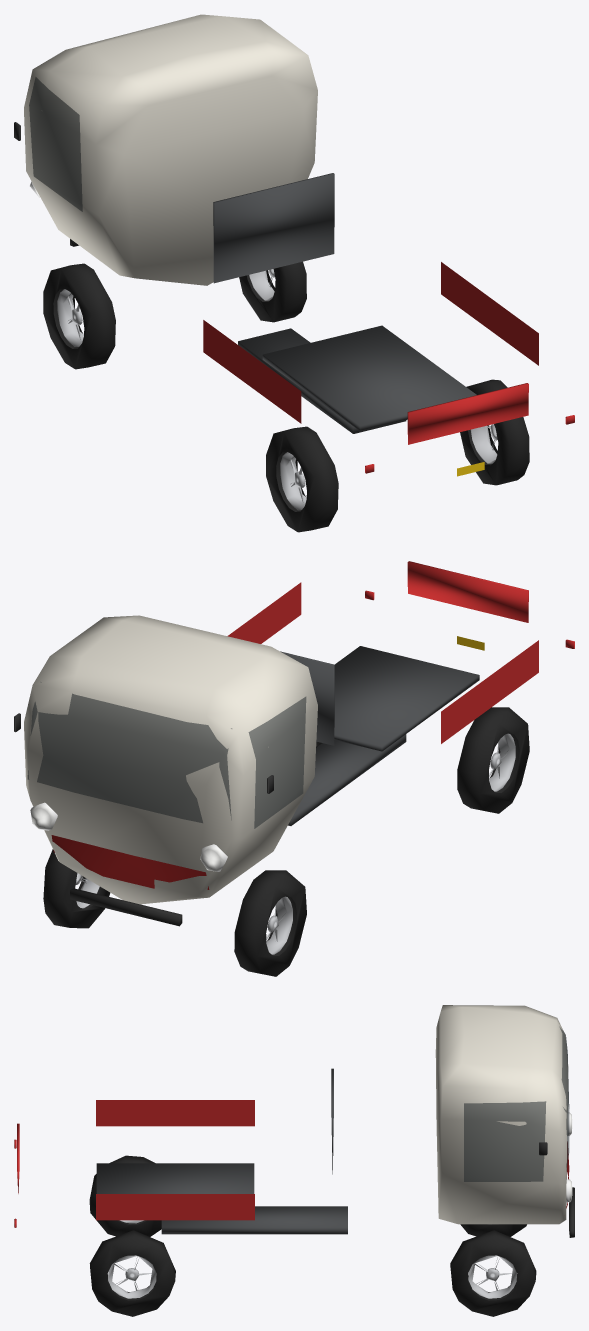
File: minitruck_1_lo.glb
The picture shows the model from 3 angles, top to bottom: view 1: azimuth 30°, elevation 25°; view 2: azimuth 150°, elevation 25°; view 3: azimuth 270°, elevation 25°; orthographic projection. The views are drawn at different scales.
Visible parts, largest first — view 1: body, wheel_0, wheel_2, wheel_3, wheel_1; view 2: body, wheel_0, wheel_2, wheel_1; view 3: body, wheel_1, wheel_3, wheel_2, wheel_0.
Boxes of the visible parts, box(x1,y1,x2,y2) form: body: box(14, 14, 574, 476); wheel_0: box(43, 263, 115, 369); wheel_2: box(266, 426, 338, 532); wheel_3: box(460, 379, 529, 485); wheel_1: box(239, 261, 306, 322); body: box(14, 561, 574, 926); wheel_0: box(234, 870, 306, 976); wheel_2: box(457, 707, 529, 813); wheel_1: box(43, 849, 110, 928); body: box(14, 1005, 574, 1237); wheel_1: box(450, 1230, 536, 1316); wheel_3: box(89, 1230, 175, 1316); wheel_2: box(89, 1155, 161, 1236); wheel_0: box(460, 1224, 526, 1236).
Bounding box in the file's own units: 1.66 × 1.86 × 3.89.
